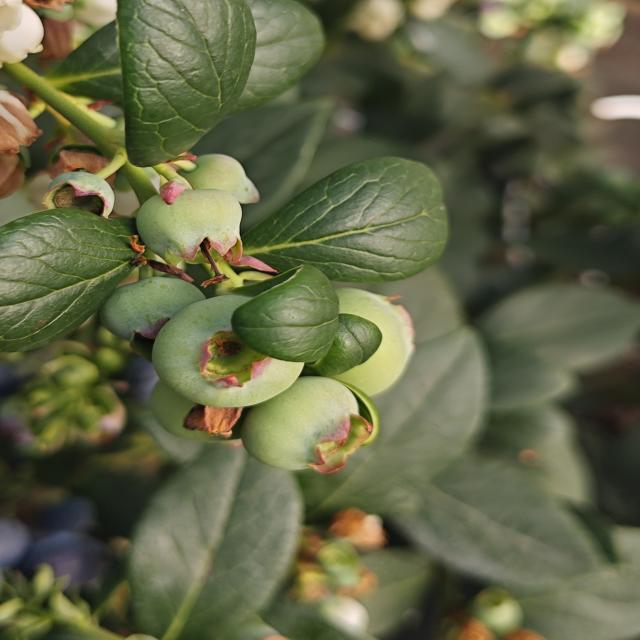ripe: (22, 527, 142, 598), (13, 481, 101, 541), (100, 342, 170, 404), (1, 503, 34, 572)
